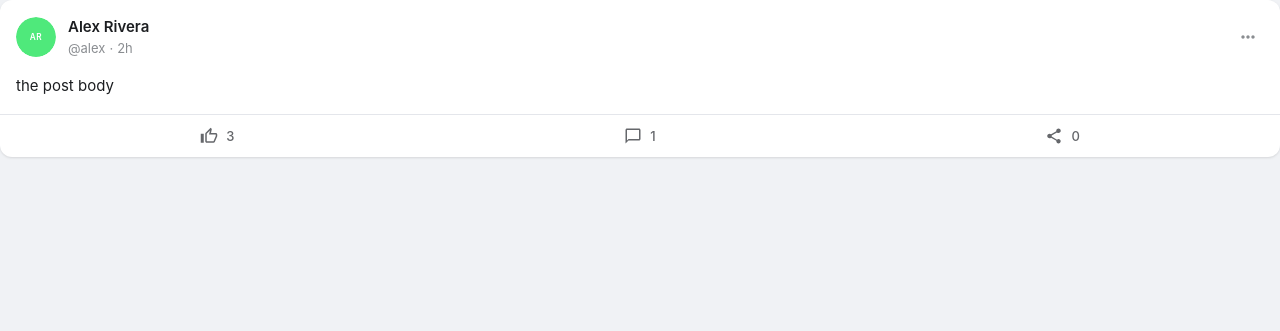
it: PostCard › opening comments fetches them from the post comments endpoint
Click the button named "1 comments".
click(640, 136)  # box [431,119,849,153]
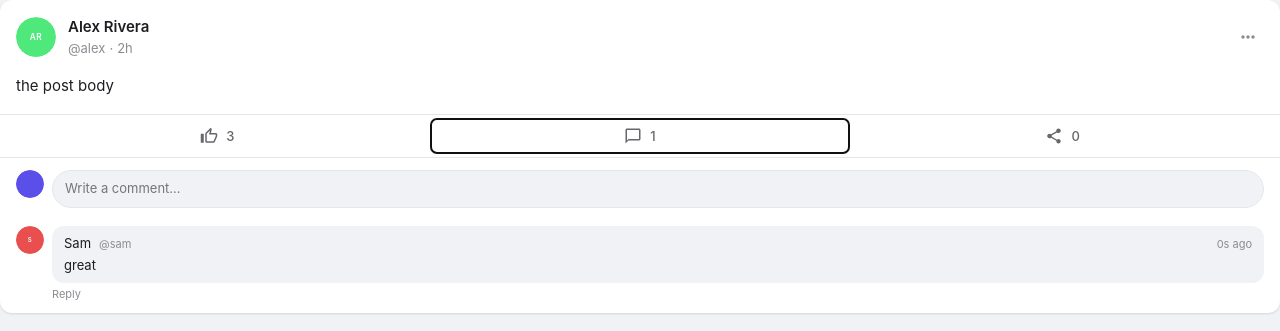
Result: the text "great" is shown at [64,256,96,272]
